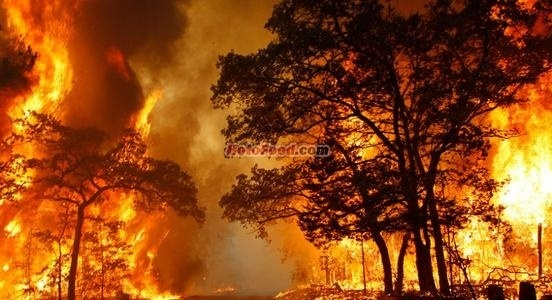fire: (312, 18, 551, 294), (4, 11, 172, 299)
